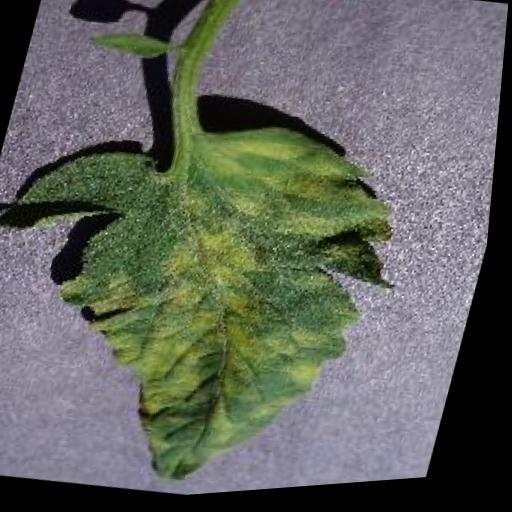Leaf Mold: (0, 75, 441, 512)
